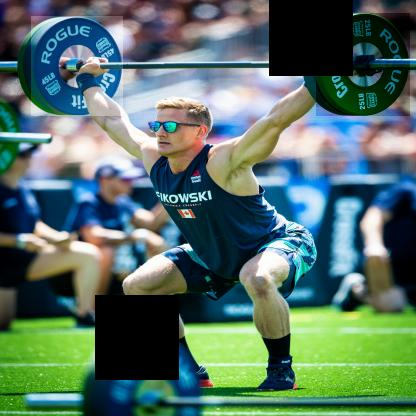barbell: (318, 14, 412, 117), (32, 18, 124, 118)
